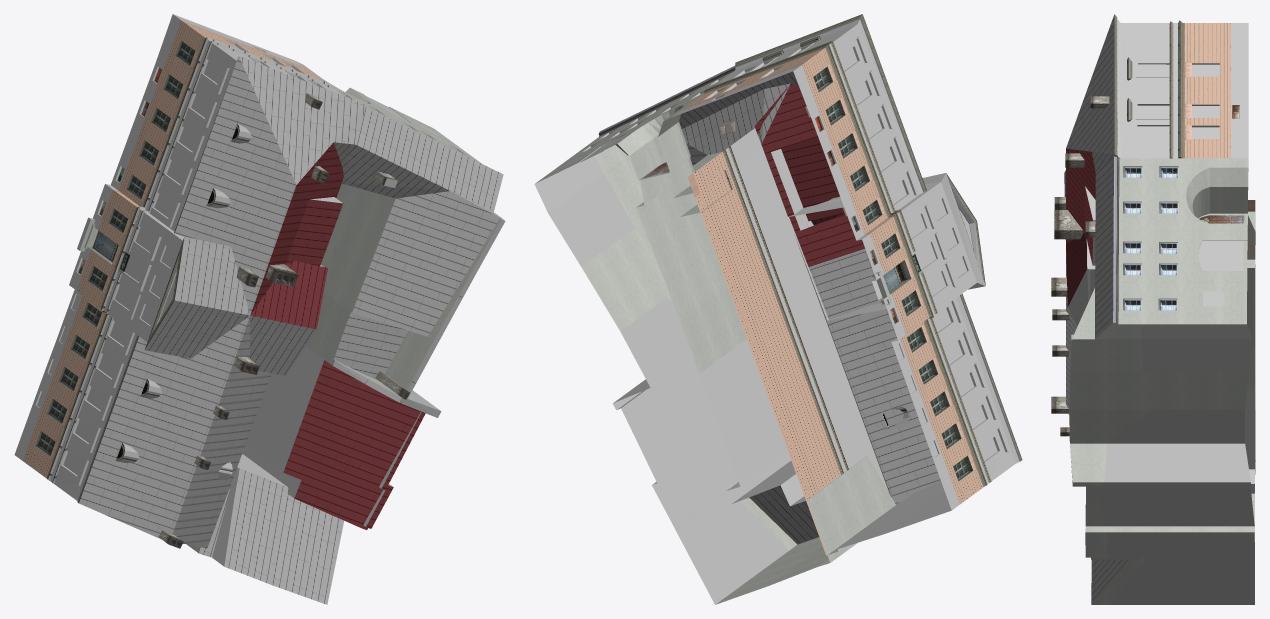
The model's file is Lai_34.obj.
The picture shows the model from 3 angles, left to right: view 1: azimuth 30°, elevation 25°; view 2: azimuth 150°, elevation 25°; view 3: azimuth 270°, elevation 25°; orthographic projection.
Visible parts, largest first — view 1: Lai_34; view 2: Lai_34; view 3: Lai_34.
Part boxes in pixels (<box>): Lai_34: <box>14,14,505,604</box>; Lai_34: <box>534,14,1022,604</box>; Lai_34: <box>1051,14,1255,604</box>.
Bounding box in the file's own units: 38.42 × 48.4 × 16.18.
